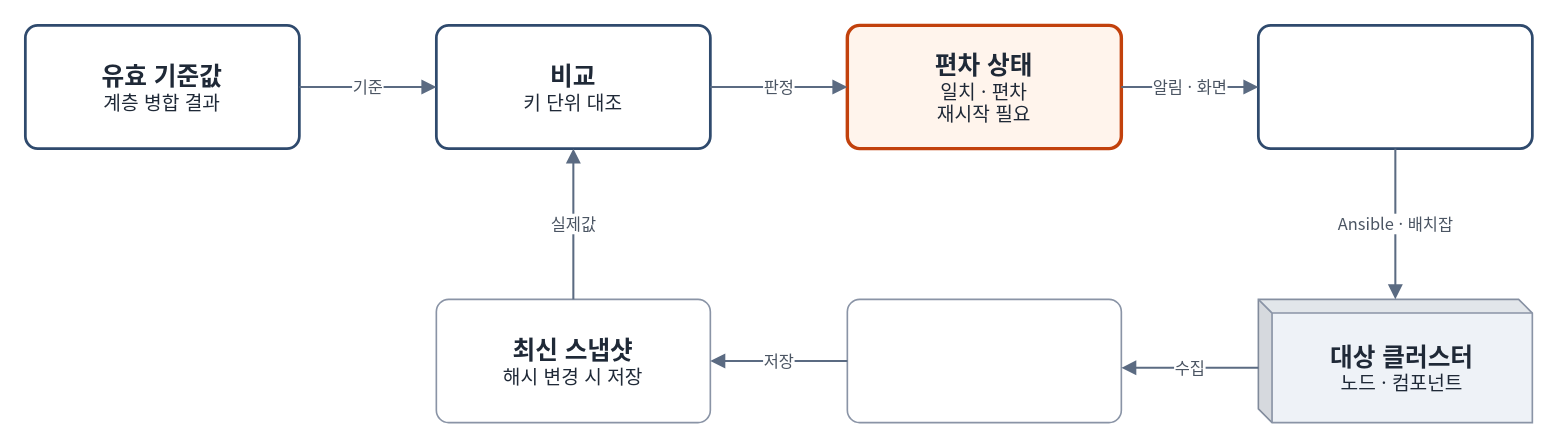
Image size: 1556x447. Some labels were removed from this diagram. Here are the shapes that lost their labels. From the top down, the box of each, then its label:
(1256, 23, 1533, 149): 운영자 실행 명시적 트리거 실시간 로그
(846, 298, 1121, 423): 수집 pull · push
